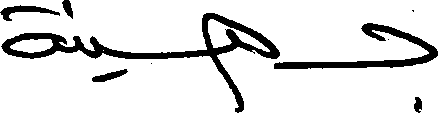ة: (0, 2, 59, 59)
ج: (361, 7, 437, 111)
ن: (61, 0, 81, 53)
ه: (199, 11, 276, 111)
ي: (87, 34, 125, 85)
